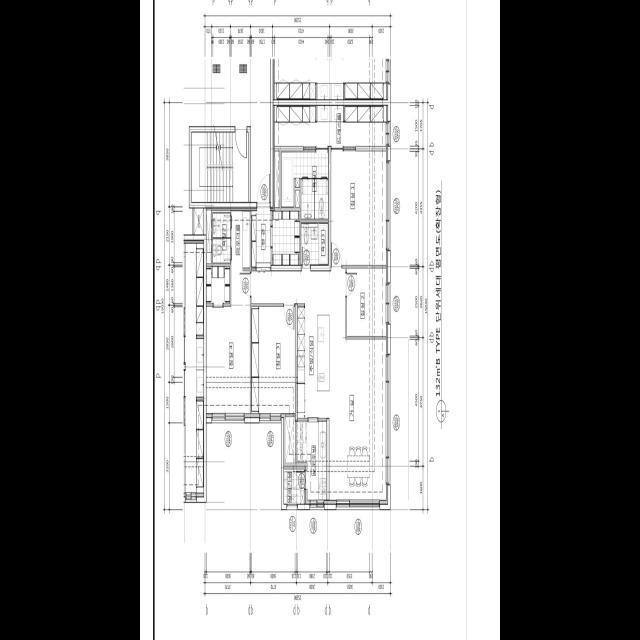background: (140, 0, 500, 640)
space_bedroom: (331, 151, 388, 265), (206, 270, 250, 417), (251, 306, 295, 417), (347, 268, 388, 335)
space_dressroom: (316, 105, 388, 146), (273, 105, 316, 146), (231, 208, 250, 271)
space_elevator_hall: (212, 58, 271, 202)
space_front: (251, 208, 271, 267)
space_kitchen: (298, 303, 329, 418), (296, 421, 327, 503)
space_living_room: (251, 268, 388, 504)
space_other: (272, 208, 299, 264), (206, 266, 230, 303), (284, 416, 295, 465), (273, 151, 280, 208), (206, 208, 211, 263), (194, 208, 204, 234), (295, 190, 300, 207)
space_outdoor_room: (284, 469, 304, 503)
space_staircase: (192, 132, 248, 202)
space_toilet: (281, 151, 328, 207), (301, 222, 328, 265), (301, 178, 314, 218), (315, 179, 328, 218), (213, 213, 231, 237), (213, 238, 231, 262)
